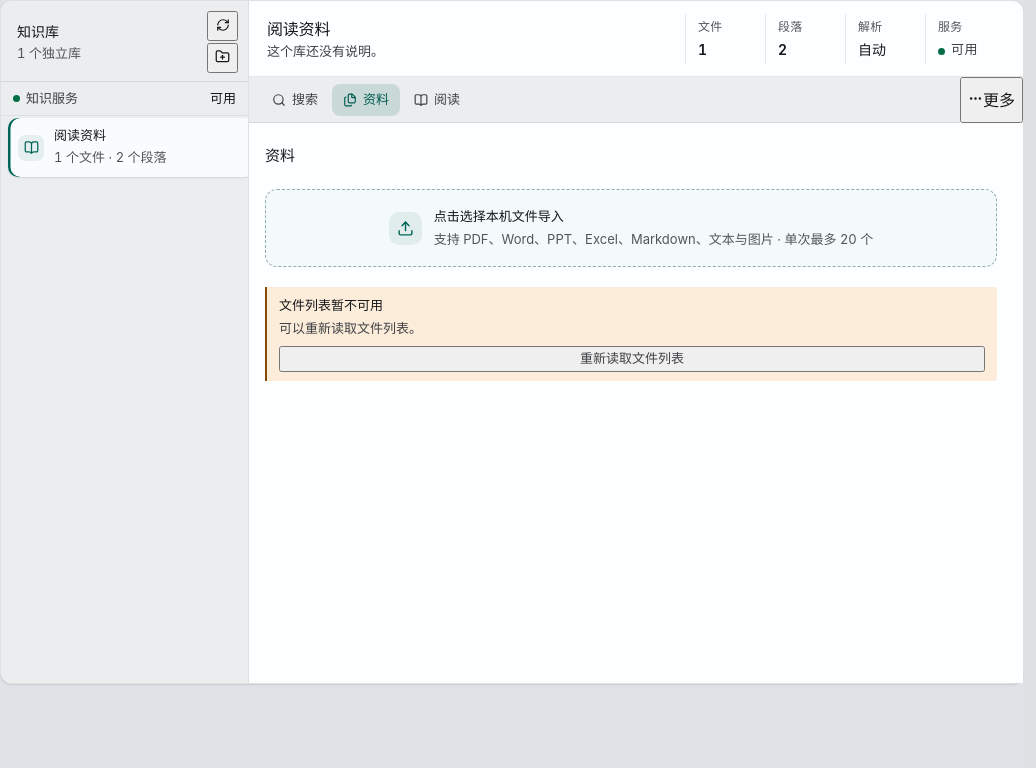
Test: Knowledge reading recovery › retries a failed materials list in place without suggesting that files are absent
This screenshot has width=1036, height=768.
Click the button "重新读取文件列表" at [632, 359], box [279, 346, 985, 372]
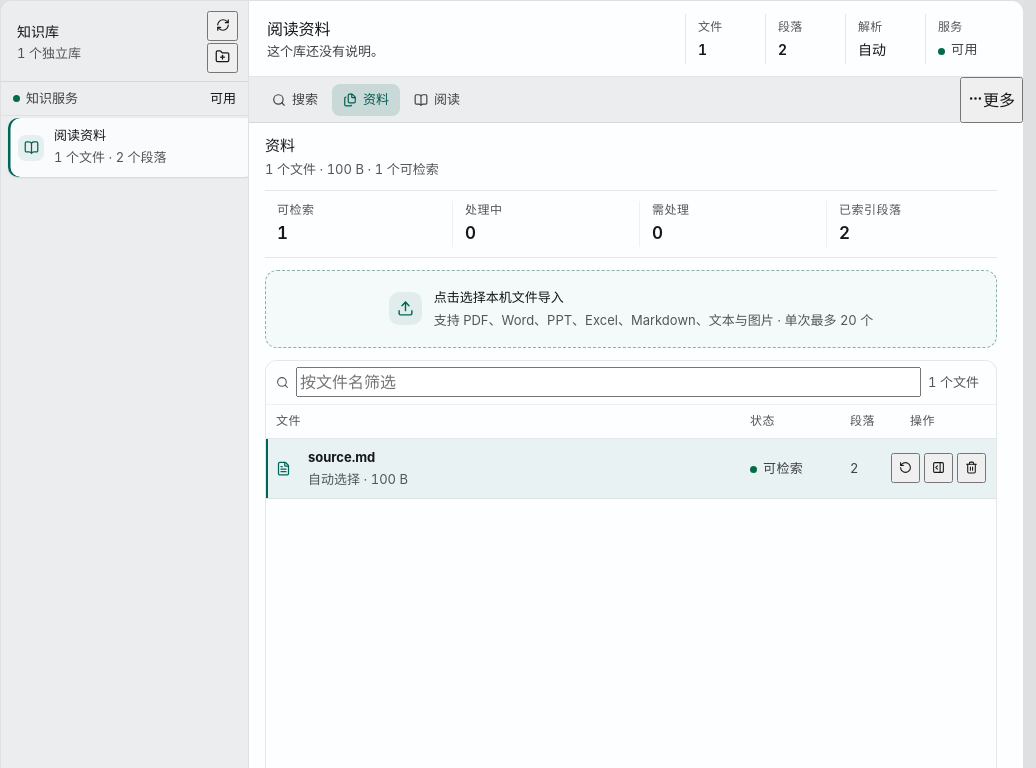
Now the button named "查看 source.md" is shown, box [924, 453, 953, 483]
